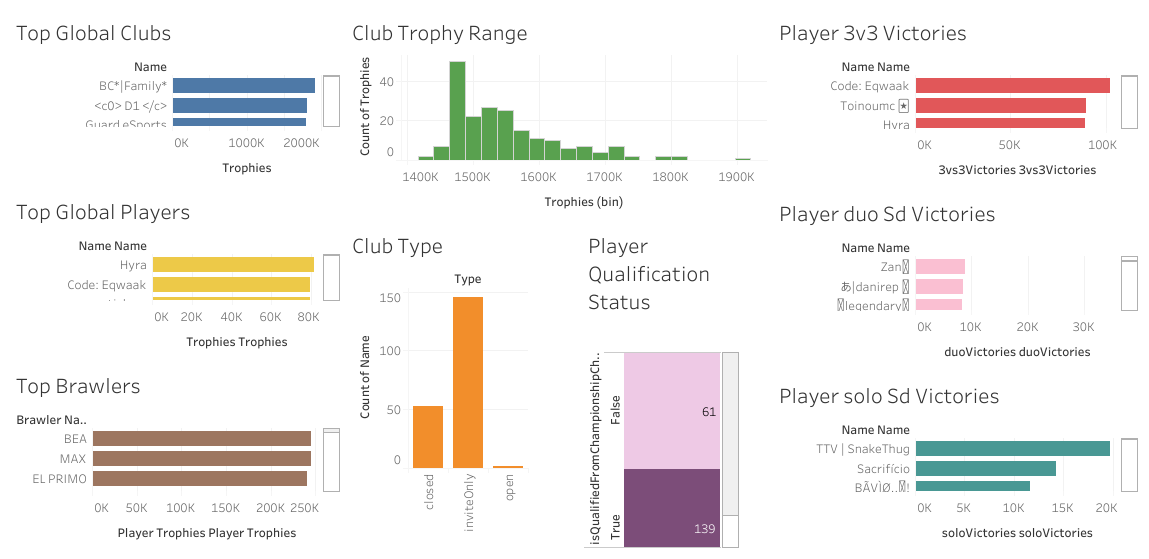

Layout of this report page (visuals, bound fields, positions):
{"tool":"tableau","page":{"name":"Dashboard 1","canvas":[1000,1000],"units":"permille","ordinal":0},"visuals":[{"type":"worksheet","title":"Top Global Clubs","mark":"Automatic","rows":["name"],"cols":["trophies"],"box":[7,13.9,290.6,319.4]},{"type":"worksheet","title":"Club Trophy Range","mark":"Automatic","rows":["trophies"],"cols":["Trophies (bin)"],"box":[297.6,13.9,369.6,380.2]},{"type":"worksheet","title":"Player 3v3 Victories","mark":"Automatic","rows":["name name"],"cols":["3vs3Victories 3vs3Victories"],"box":[667.3,13.9,325.7,324.1]},{"type":"worksheet","title":"Top Global Players","mark":"Automatic","rows":["name name"],"cols":["trophies trophies"],"box":[7,333.3,290.6,310.8]},{"type":"worksheet","title":"Player duo Sd Victories","mark":"Automatic","rows":["name name"],"cols":["duoVictories duoVictories"],"box":[667.3,338,325.7,324.1]},{"type":"worksheet","title":"Club Type","mark":"Automatic","rows":["name"],"cols":["type"],"box":[297.6,394.1,204.5,592]},{"type":"worksheet","title":"Qualification Status","mark":"Square","rows":["isQualifiedFromChampionshipChallenge isQualifiedFromChampion"],"box":[502.2,394.1,165.1,592]},{"type":"worksheet","title":"Top Brawlers","mark":"Automatic","rows":["brawler_name brawler_name"],"cols":["player_trophies player_trophies"],"box":[7,644.1,290.6,342]},{"type":"worksheet","title":"Player solo Sd Victories","mark":"Automatic","rows":["name name"],"cols":["soloVictories soloVictories"],"box":[667.3,662,325.7,324.1]}]}

Visuals, with their boxes on the dashboard's canvas, which has no fixed pixel size, in thousandths of its width and height (x1, y1, x2, y2). These are canvas units, not pixel positions in the 1149x559 screenshot, which may show the page scaled, cropped or inside an application window:
"Top Global Clubs" worksheet: locate(7, 14, 298, 333)
"Club Trophy Range" worksheet: locate(298, 14, 667, 394)
"Player 3v3 Victories" worksheet: locate(667, 14, 993, 338)
"Top Global Players" worksheet: locate(7, 333, 298, 644)
"Player duo Sd Victories" worksheet: locate(667, 338, 993, 662)
"Club Type" worksheet: locate(298, 394, 502, 986)
"Qualification Status" worksheet (Square marks): locate(502, 394, 667, 986)
"Top Brawlers" worksheet: locate(7, 644, 298, 986)
"Player solo Sd Victories" worksheet: locate(667, 662, 993, 986)
